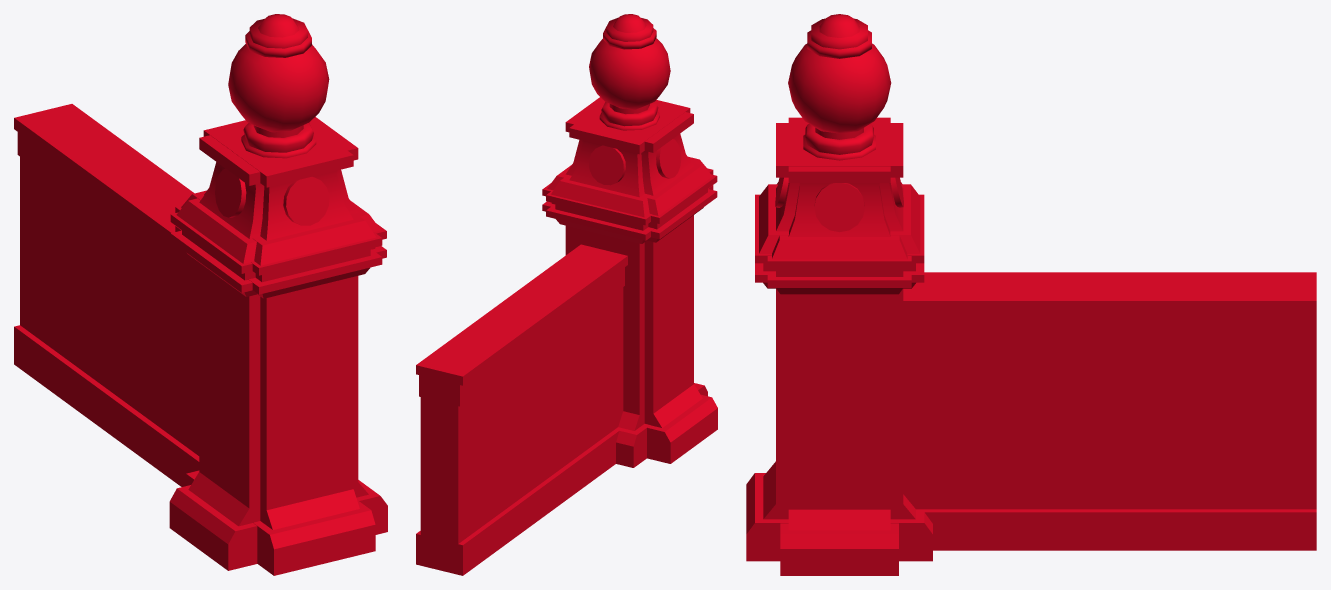
Rendered from SM_doorfront_join.fbx.
3 views of the same model, side by side, from view 1: azimuth 30°, elevation 25°; view 2: azimuth 150°, elevation 25°; view 3: azimuth 270°, elevation 25° (orthographic). The views are drawn at different scales.
Visible parts, largest first — view 1: main_low.002; view 2: main_low.002; view 3: main_low.002.
Part boxes in pixels (x1,y1,x2,y2): main_low.002: (14,14,387,575); main_low.002: (416,14,717,575); main_low.002: (746,14,1316,575).
Size of the model in its own units: 44 by 135 by 135.
